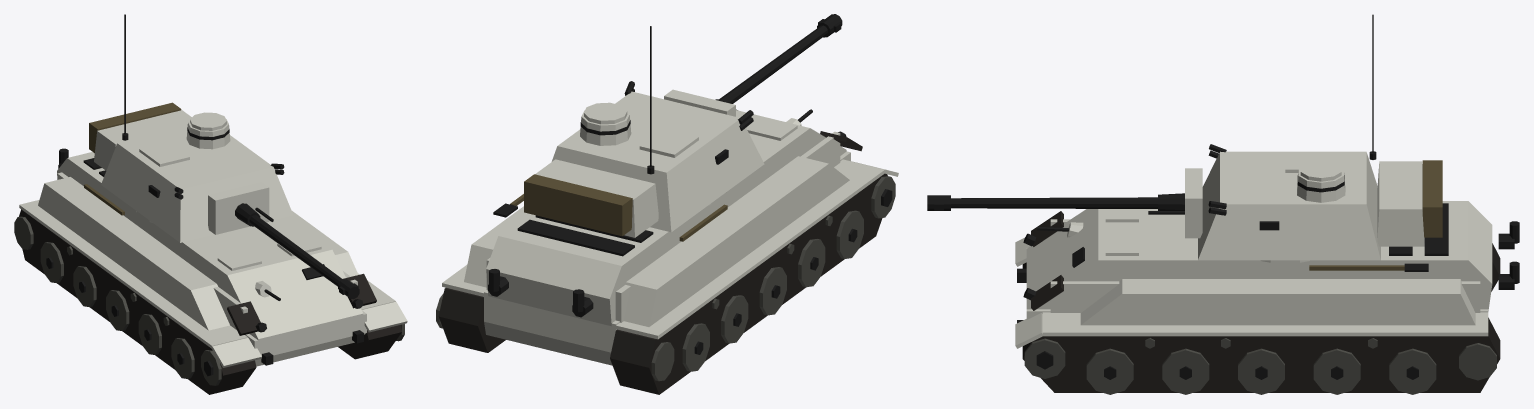
The model's file is tank.glb.
The picture shows the model from 3 angles, left to right: view 1: azimuth 30°, elevation 25°; view 2: azimuth 150°, elevation 25°; view 3: azimuth 270°, elevation 25°; orthographic projection. The views are drawn at different scales.
Parts seen in each view (by area): view 1: Hull, Turret, Gun; view 2: Hull, Turret, Gun; view 3: Hull, Turret, Gun.
Part boxes in pixels (x1,y1,x2,y2): Hull: (14, 148, 407, 394); Turret: (89, 14, 293, 242); Gun: (235, 203, 359, 299); Hull: (436, 109, 898, 394); Turret: (524, 26, 764, 237); Gun: (715, 14, 842, 103); Hull: (1015, 201, 1519, 394); Turret: (1185, 14, 1442, 260); Gun: (927, 193, 1184, 214).
Bounding box in the file's own units: 3.2 × 4.27 × 7.44.
